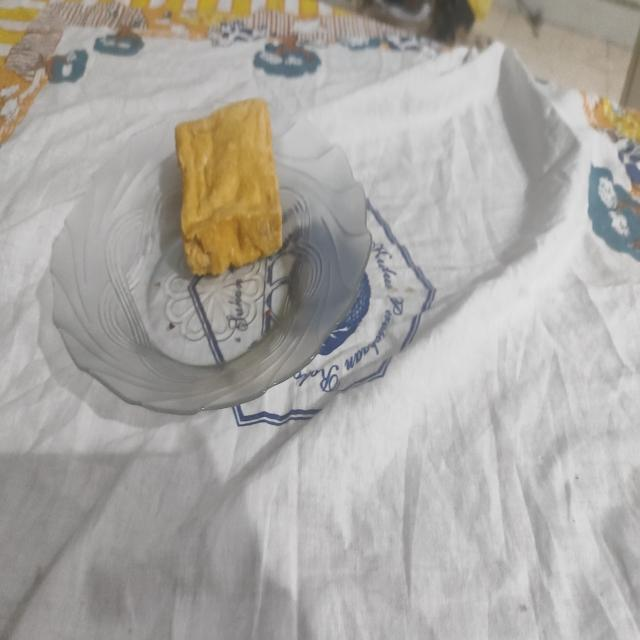tahu_goreng: (175, 98, 282, 276)
